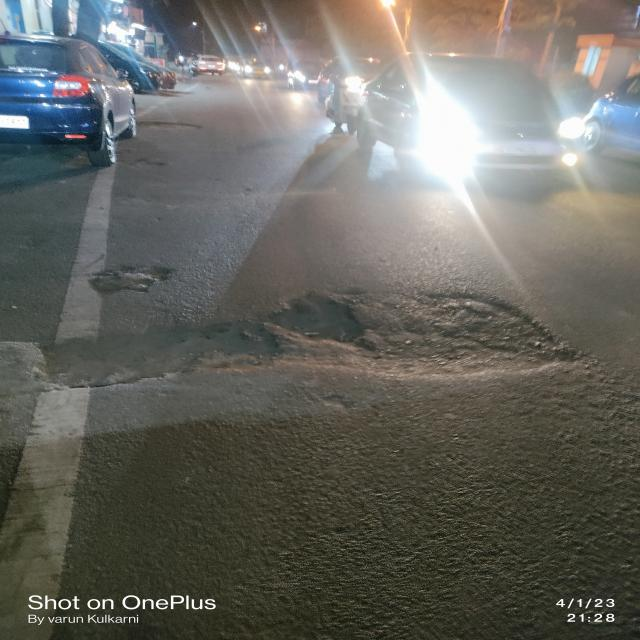potholes: (41, 284, 578, 398)
